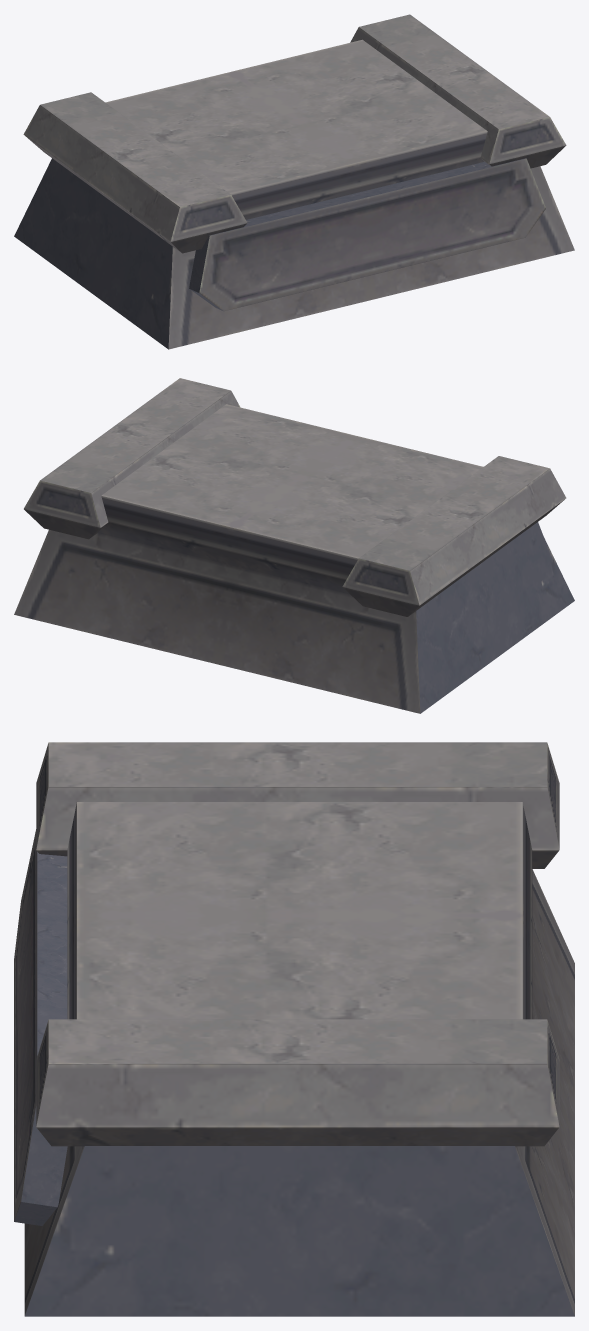
Rendered from Recruit_Box_02.FBX.
3 views of the same model, one above another, from view 1: azimuth 30°, elevation 25°; view 2: azimuth 150°, elevation 25°; view 3: azimuth 270°, elevation 25° (orthographic). The views are drawn at different scales.
Visible parts, largest first — view 1: Recruit_Box_02; view 2: Recruit_Box_02; view 3: Recruit_Box_02.
Boxes of the visible parts, bbox=[...] form: Recruit_Box_02: bbox=[14, 14, 574, 349]; Recruit_Box_02: bbox=[14, 378, 574, 713]; Recruit_Box_02: bbox=[14, 742, 574, 1316].
Bounding box in the file's own units: 3.8 × 1.19 × 2.55.
